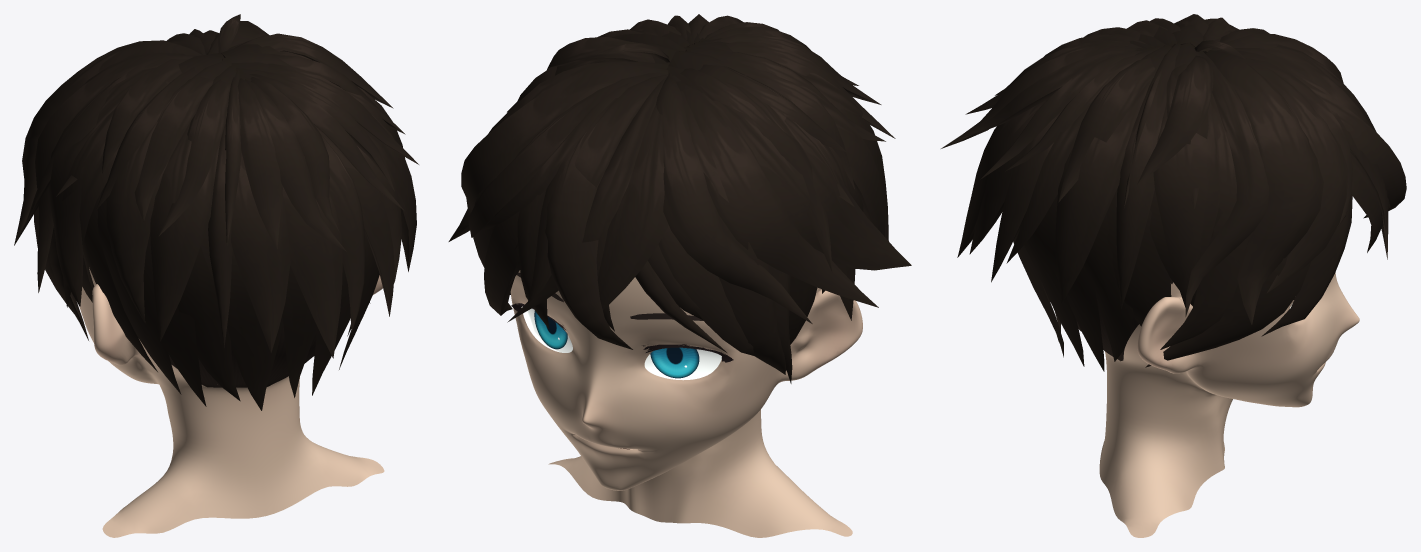
File: approved_head_art.glb
3 renders of one model, left to right at view 1: azimuth 30°, elevation 25°; view 2: azimuth 150°, elevation 25°; view 3: azimuth 270°, elevation 25°, orthographic. The views are drawn at different scales.
Parts seen in each view (by area): view 1: Ritsuka_Hair_Editable_CC0_Adaptation, Head_Skin_Editable, Hair_Underlayer_Continuous_Fitted; view 2: Ritsuka_Hair_Editable_CC0_Adaptation, Head_Skin_Editable, Iris, Sclera; view 3: Ritsuka_Hair_Editable_CC0_Adaptation, Head_Skin_Editable.
Part boxes in pixels (<box>): Ritsuka_Hair_Editable_CC0_Adaptation: <box>14,14,418,410</box>; Head_Skin_Editable: <box>79,267,384,537</box>; Hair_Underlayer_Continuous_Fitted: <box>168,323,317,387</box>; Ritsuka_Hair_Editable_CC0_Adaptation: <box>448,14,911,383</box>; Head_Skin_Editable: <box>510,270,862,537</box>; Iris: <box>534,311,699,378</box>; Sclera: <box>521,306,721,380</box>; Ritsuka_Hair_Editable_CC0_Adaptation: <box>941,14,1406,371</box>; Head_Skin_Editable: <box>1099,272,1359,537</box>.
Size of the model in its own units: 0.272 by 0.3161 by 0.3026.
9 materials, 5 textured.
